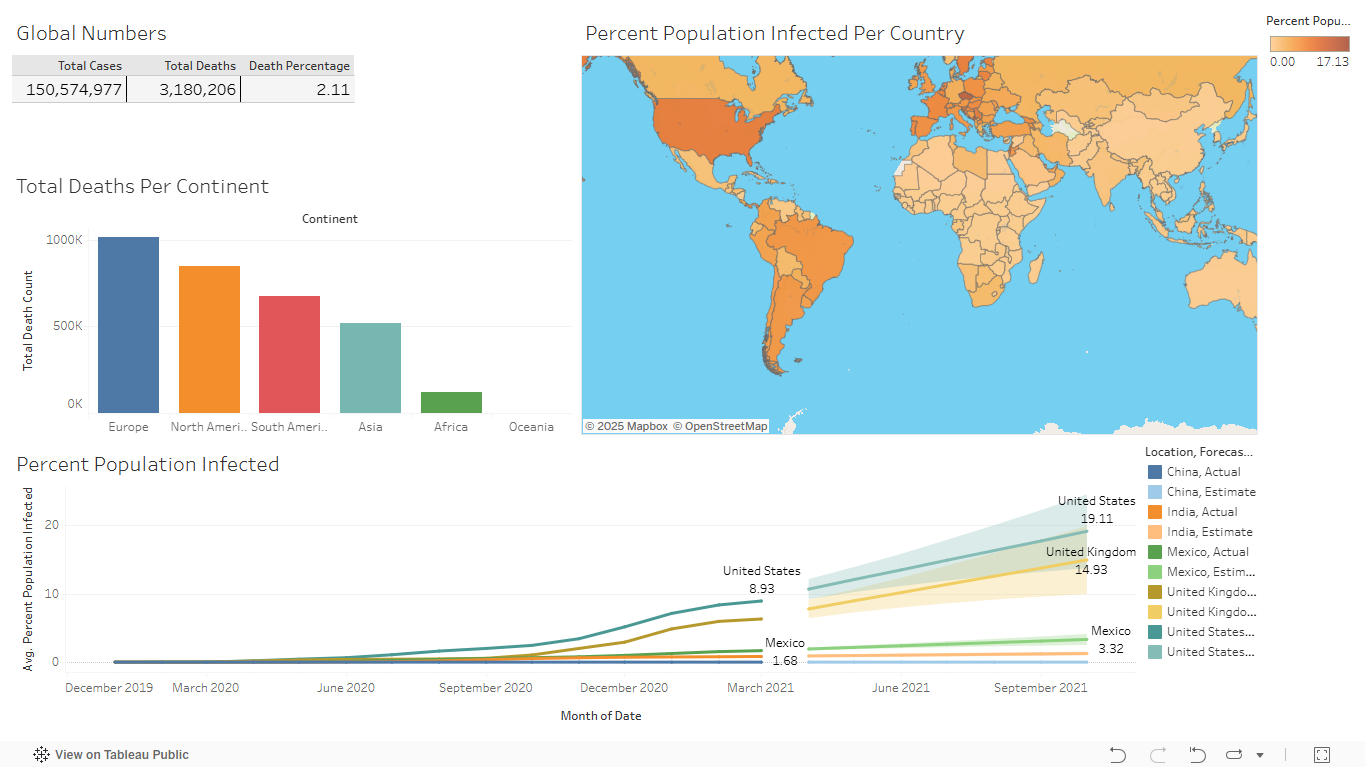

The page's visual inventory and layout, read from the dashboard file:
{"tool":"tableau","page":{"name":"Dashboard 1","canvas":[1000,1000],"units":"permille","ordinal":0},"visuals":[{"type":"worksheet","title":"Sheet 1","mark":"Automatic","box":[6.9,15,409.9,204.9]},{"type":"worksheet","title":"Sheet 3","mark":"Automatic","box":[416.9,15,493.1,577]},{"type":"legend","title":"Sheet 3","param":"[federated.0cai9zv0w18nfr1gg4q5a06dt5jg].[sum:PercentPopulationInfected:qk]","box":[910,15,83.1,122.2]},{"type":"worksheet","title":"Sheet 2","mark":"Automatic","rows":["TotalDeathCount"],"cols":["location"],"box":[6.9,219.9,409.9,372.2]},{"type":"worksheet","title":"Sheet 4","mark":"Automatic","rows":["PercentPopulationInfected"],"cols":["date"],"box":[6.9,592.1,816.2,392.9]},{"type":"legend","title":"Sheet 4","param":"[federated.1kw6yh11nzbwk413yuvn2048ngfd].[none:Location:nk]\n[federated.1kw6yh11n","box":[823.1,592.1,86.8,392.9]}]}

Visuals, with their boxes on the dashboard's canvas, which has no fixed pixel size, in thousandths of its width and height (x1, y1, x2, y2). These are canvas units, not pixel positions in the 1365x767 screenshot, which may show the page scaled, cropped or inside an application window:
"Sheet 1" worksheet: {"x1": 7, "y1": 15, "x2": 417, "y2": 220}
"Sheet 3" worksheet: {"x1": 417, "y1": 15, "x2": 910, "y2": 592}
"Sheet 3" legend: {"x1": 910, "y1": 15, "x2": 993, "y2": 137}
"Sheet 2" worksheet: {"x1": 7, "y1": 220, "x2": 417, "y2": 592}
"Sheet 4" worksheet: {"x1": 7, "y1": 592, "x2": 823, "y2": 985}
"Sheet 4" legend: {"x1": 823, "y1": 592, "x2": 910, "y2": 985}
